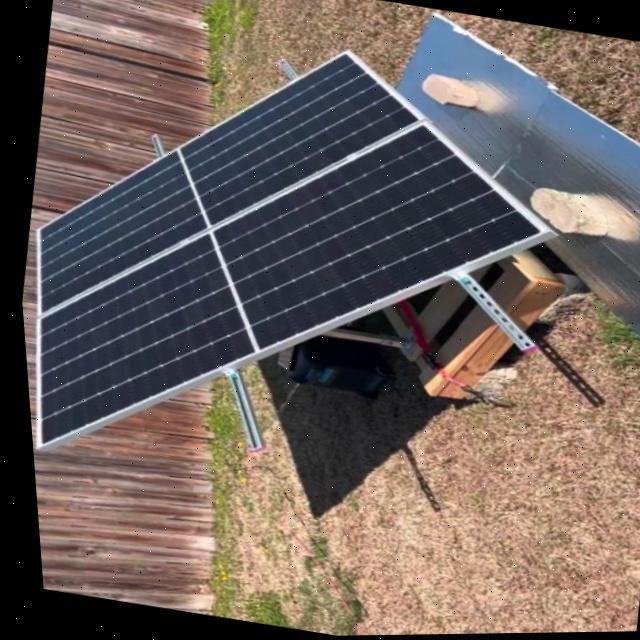Normal Solar Panel: (1, 0, 590, 529)
